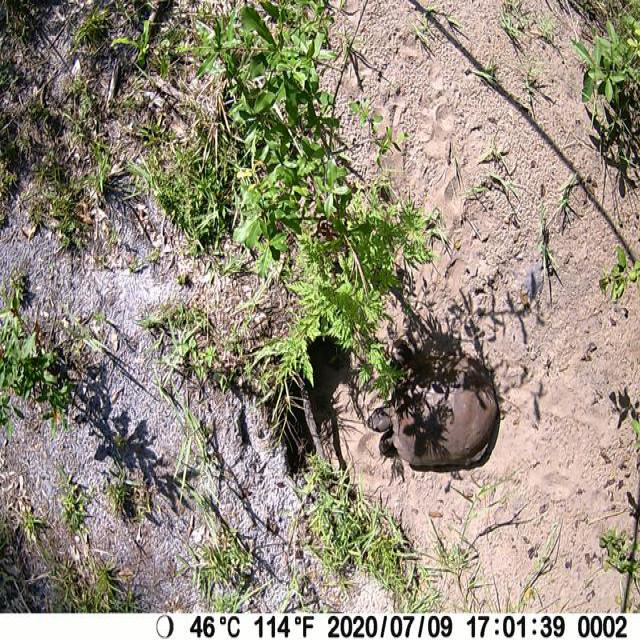tortoise: (364, 350, 500, 470)
